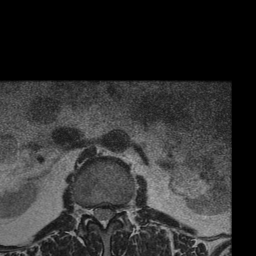CCS_normal: (100, 199, 107, 234)
LFS_stenosis: (115, 199, 124, 220)
LLS_stenosis: (108, 200, 115, 226)
RFS_normal: (83, 197, 92, 223)
RLS_normal: (92, 199, 100, 229)
